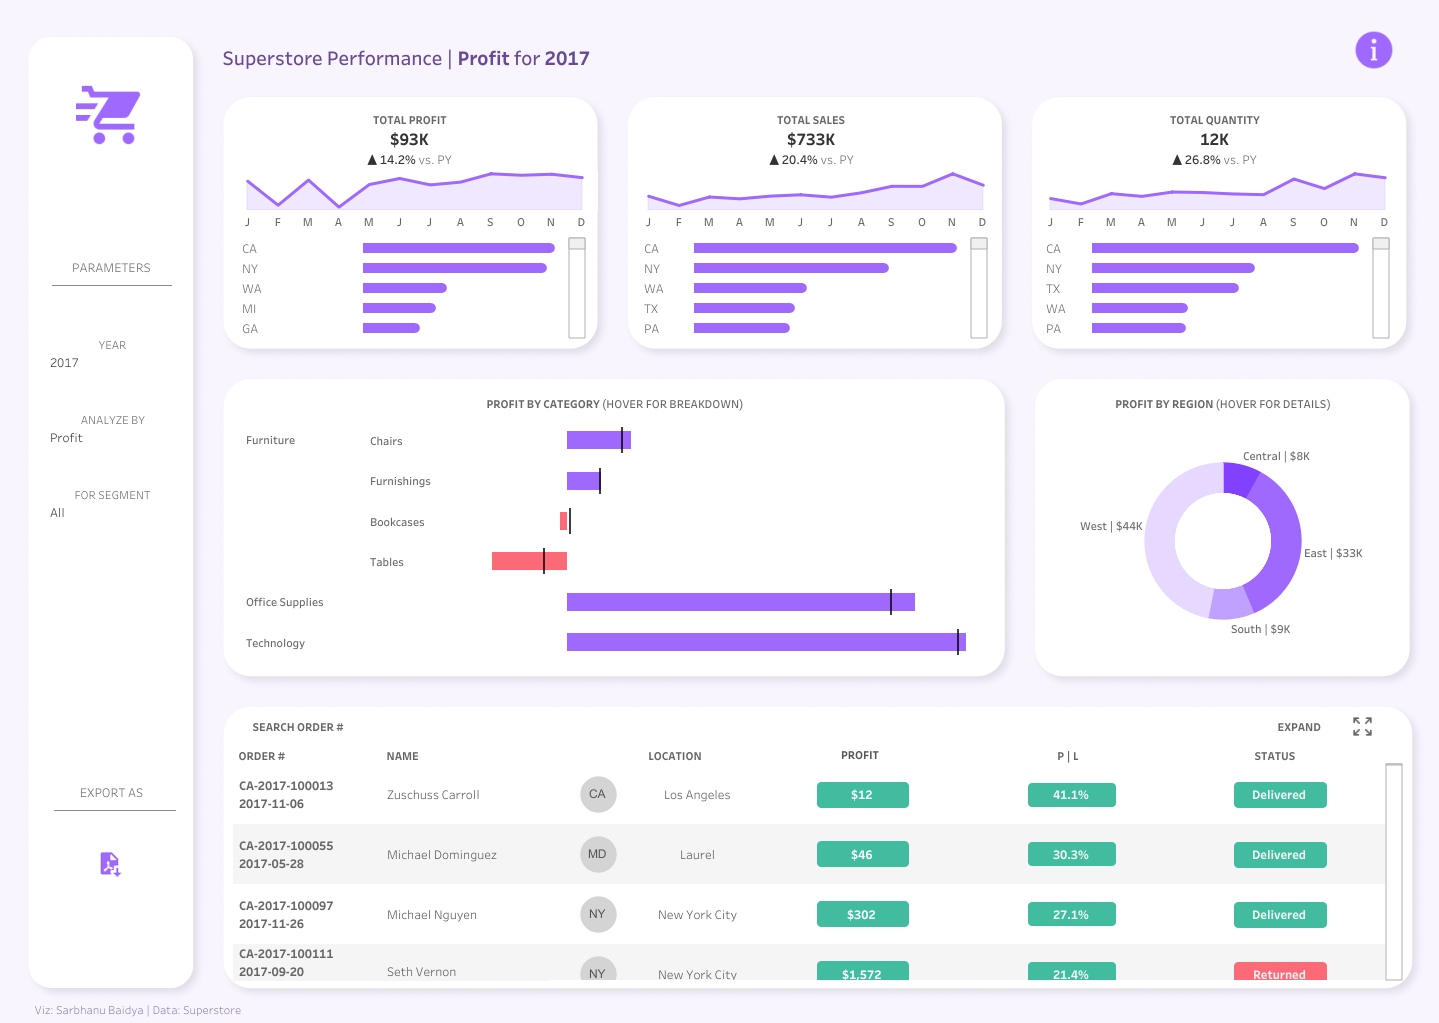

The dashboard page shown, as its layout file describes it:
{"tool":"tableau","page":{"name":"Superstore","canvas":[1440,1024],"ordinal":0},"visuals":[{"type":"image","param":"Image/background.png","box":[0,0,1440,1024]},{"type":"text","box":[220,30,520,55]},{"type":"image","param":"Image/superstore.png","box":[76,80,70,70]},{"type":"worksheet","title":"Profit | BAN","mark":"Text","box":[245,105,330,70]},{"type":"worksheet","title":"Sales | BAN","mark":"Automatic","box":[647,105,330,70]},{"type":"worksheet","title":"Quantity | BAN","mark":"Automatic","box":[1050,105,330,70]},{"type":"worksheet","title":"Profit | Line","mark":"Area","rows":["Profit","Profit"],"cols":["Order Date"],"box":[232,170,365,60]},{"type":"worksheet","title":"Sales | Line","mark":"Area","rows":["Sales","Sales"],"cols":["Order Date"],"box":[633,170,365,60]},{"type":"worksheet","title":"Quantity | Line","mark":"Line","rows":["Quantity","Quantity"],"cols":["Order Date"],"box":[1035,170,365,60]},{"type":"worksheet","title":"Profits, State | Bar","mark":"Bar","rows":["Abbreviation"],"cols":["Profit","Profit"],"box":[236,238,350,100]},{"type":"worksheet","title":"Sales, State | Bar","mark":"Shape","rows":["Abbreviation"],"cols":["Sales","Sales"],"box":[638,238,350,100]},{"type":"worksheet","title":"Quantity, State | Bar","mark":"Shape","rows":["Abbreviation"],"cols":["Quantity","Quantity"],"box":[1040,238,350,100]},{"type":"text","box":[50,250,123,34]},{"type":"blank","box":[52,285,120,1]},{"type":"parameter","param":"[Parameters].[Parameter 2]","box":[48,335,130,46]},{"type":"worksheet","title":"Category | Bar","mark":"Bar","rows":["Category","Calculation_502432861820870673"],"cols":["Calculation_502432861907439636","Calculation_502432861907570709"],"box":[240,390,750,272]},{"type":"worksheet","title":"Region | Pie","mark":"Pie","rows":["Calculation_502432861749727234","Calculation_502432861749727234"],"box":[1048,390,350,272]},{"type":"parameter","param":"[Parameters].[Parameter 1]","box":[48,410,130,46]},{"type":"parameter","param":"[Parameters].[Parameter 6]","box":[48,485,130,47]},{"type":"text","box":[250,714,130,25]},{"type":"parameter","param":"[Parameters].[Parameter 5]","box":[380,714,150,25]},{"type":"text","box":[1275,714,70,25]},{"type":"dashboard-object","box":[1350,714,25,25]},{"type":"text","box":[236,745,150,20]},{"type":"text","box":[384,745,150,20]},{"type":"text","box":[600,745,150,20]},{"type":"worksheet","title":"Metric Name For Table","mark":"Automatic","box":[785,745,150,20]},{"type":"text","box":[993,745,150,20]},{"type":"text","box":[1200,745,150,20]},{"type":"worksheet","title":"Top Orders | Table","mark":"Automatic","rows":["Calculation_502432862049525782","Customer Name"],"cols":["Calculation_502432862757679230","Calculation_502432862757658749","Calculation_502432862518468692","Calculation_502432862518435923","Calculation_502432862613717107"],"box":[233,764,1170,216]},{"type":"text","box":[50,775,123,34]},{"type":"blank","box":[54,809.9,122.4,0.9]},{"type":"dashboard-object","box":[65,850,90,27]},{"type":"text","box":[32,990,259,39]}]}

Visuals, with their boxes in screenshot pixels (x1, y1, x2, y2), scaled from the page's 1440x1024 canvas onto the 1439x1023 screenshot:
image: bbox(0, 0, 1438, 1022)
text: bbox(220, 30, 739, 85)
image: bbox(76, 80, 146, 150)
"Profit | BAN" worksheet (Text marks): bbox(245, 105, 575, 175)
"Sales | BAN" worksheet: bbox(647, 105, 976, 175)
"Quantity | BAN" worksheet: bbox(1049, 105, 1379, 175)
"Profit | Line" worksheet (Area marks): bbox(232, 170, 597, 230)
"Sales | Line" worksheet (Area marks): bbox(633, 170, 997, 230)
"Quantity | Line" worksheet (Line marks): bbox(1034, 170, 1399, 230)
"Profits, State | Bar" worksheet (Bar marks): bbox(236, 238, 586, 338)
"Sales, State | Bar" worksheet (Shape marks): bbox(638, 238, 987, 338)
"Quantity, State | Bar" worksheet (Shape marks): bbox(1039, 238, 1389, 338)
text: bbox(50, 250, 173, 284)
blank: bbox(52, 285, 172, 286)
parameter: bbox(48, 335, 178, 381)
"Category | Bar" worksheet (Bar marks): bbox(240, 390, 989, 661)
"Region | Pie" worksheet (Pie marks): bbox(1047, 390, 1397, 661)
parameter: bbox(48, 410, 178, 456)
parameter: bbox(48, 485, 178, 531)
text: bbox(250, 713, 380, 738)
parameter: bbox(380, 713, 530, 738)
text: bbox(1274, 713, 1344, 738)
dashboard-object: bbox(1349, 713, 1374, 738)
text: bbox(236, 744, 386, 764)
text: bbox(384, 744, 534, 764)
text: bbox(600, 744, 749, 764)
"Metric Name For Table" worksheet: bbox(784, 744, 934, 764)
text: bbox(992, 744, 1142, 764)
text: bbox(1199, 744, 1349, 764)
"Top Orders | Table" worksheet: bbox(233, 763, 1402, 979)
text: bbox(50, 774, 173, 808)
blank: bbox(54, 809, 176, 810)
dashboard-object: bbox(65, 849, 155, 876)
text: bbox(32, 989, 291, 1022)
